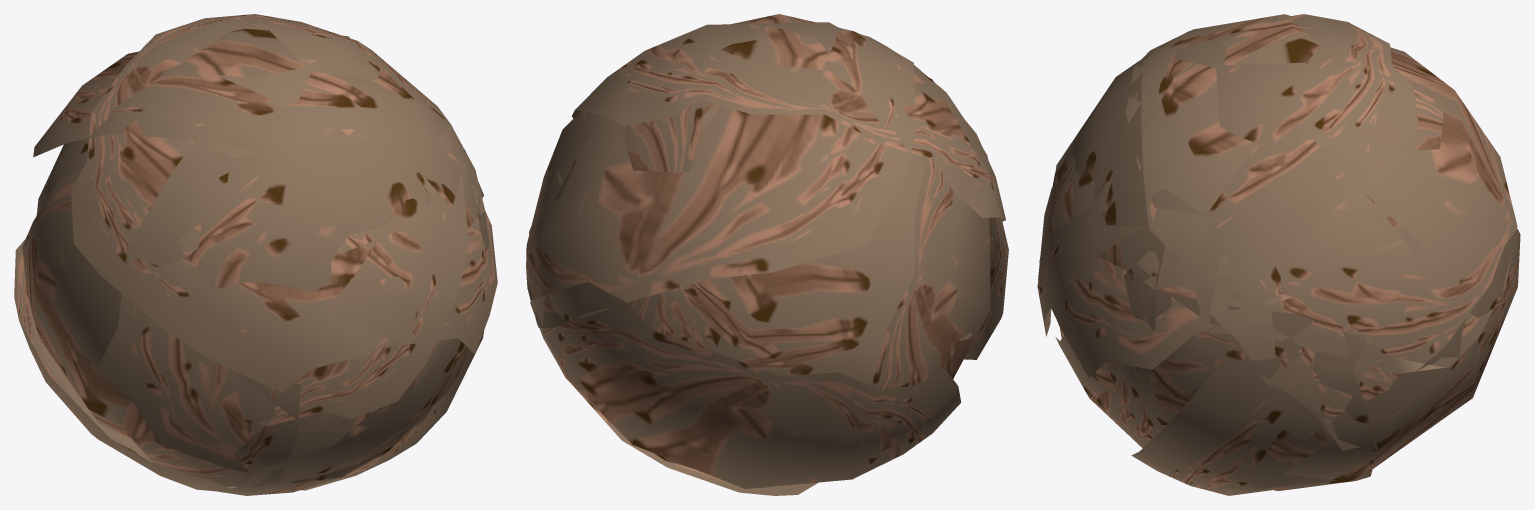
Rendered from TumbleWeed_Lod1.fbx.
3 renders of one model, left to right at view 1: azimuth 30°, elevation 25°; view 2: azimuth 150°, elevation 25°; view 3: azimuth 270°, elevation 25°, orthographic.
Visible parts, largest first — view 1: TumbleWeed_LP; view 2: TumbleWeed_LP; view 3: TumbleWeed_LP.
Boxes of the visible parts, <box> form: TumbleWeed_LP: <box>14,14,497,495</box>; TumbleWeed_LP: <box>526,14,1008,495</box>; TumbleWeed_LP: <box>1037,14,1520,495</box>.
Size of the model in its own units: 54.77 by 55.41 by 55.76.
